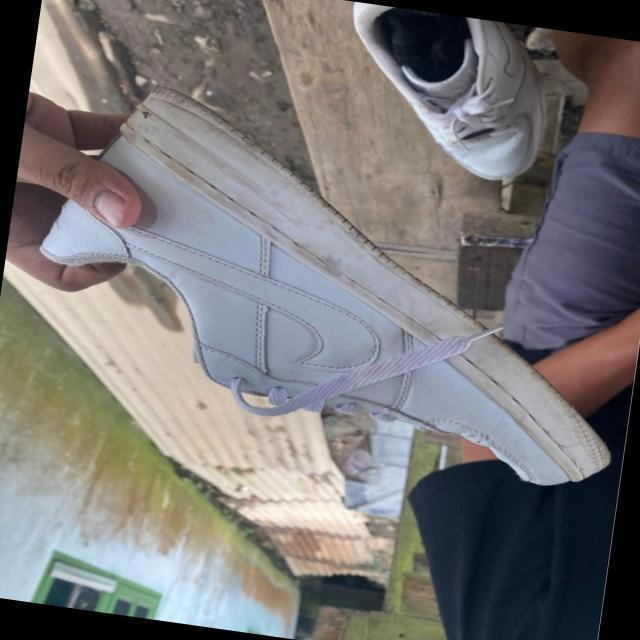nike fake air force: (0, 72, 640, 502)
